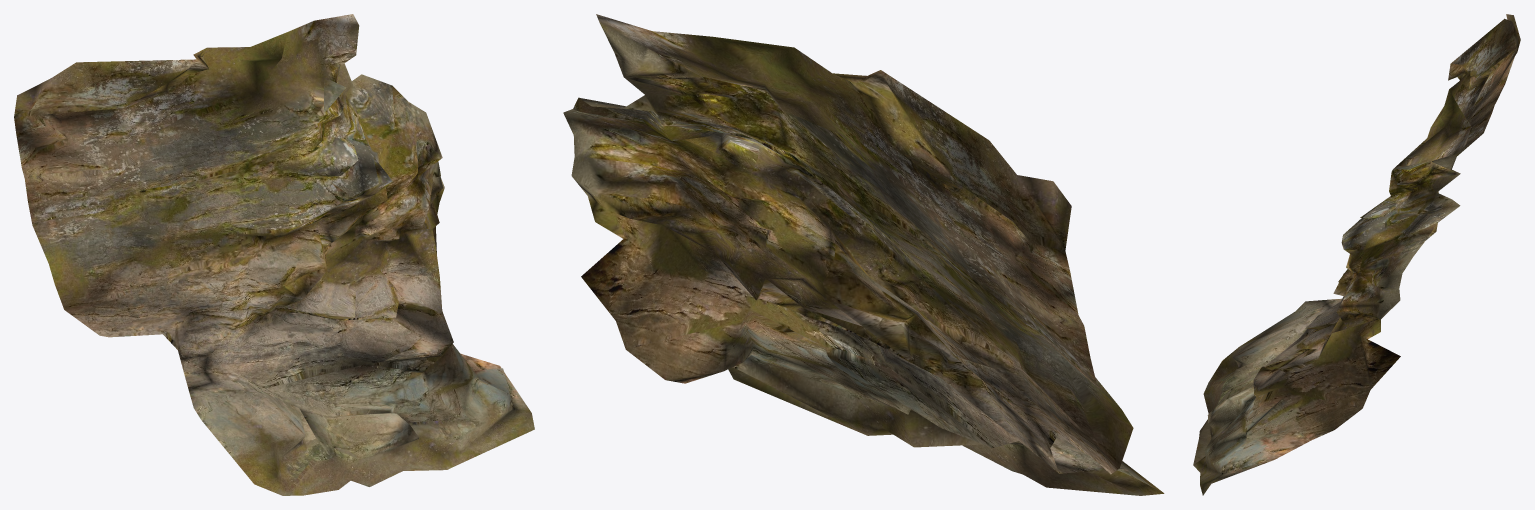
Rendered from rock_face_02-lod2.glb.
3 views of the same model, side by side, from view 1: azimuth 30°, elevation 25°; view 2: azimuth 150°, elevation 25°; view 3: azimuth 270°, elevation 25° (orthographic). The views are drawn at different scales.
Visible parts, largest first — view 1: rock_face_02; view 2: rock_face_02; view 3: rock_face_02.
Part boxes in pixels (bbox=[...]): rock_face_02: bbox=[14, 14, 534, 495]; rock_face_02: bbox=[563, 14, 1164, 495]; rock_face_02: bbox=[1193, 14, 1520, 495].
Size of the model in its own units: 2.7 by 2.47 by 2.13.
1 material, 1 textured.
